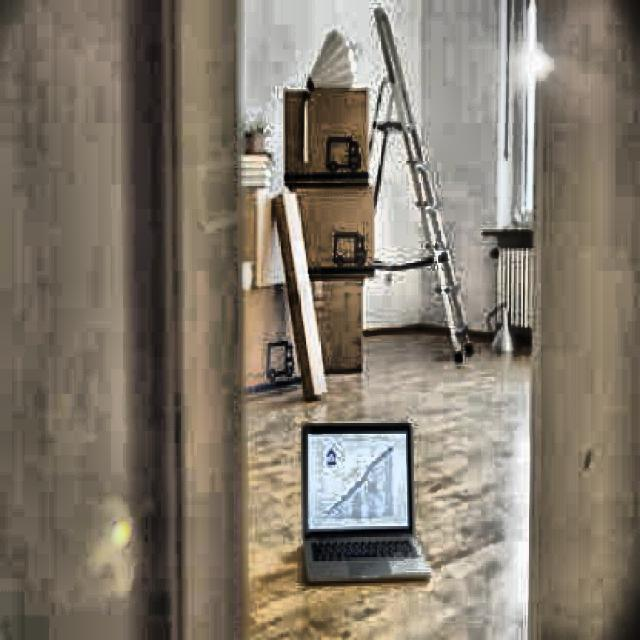Cardbox: (257, 64, 380, 200), (283, 167, 382, 272)
